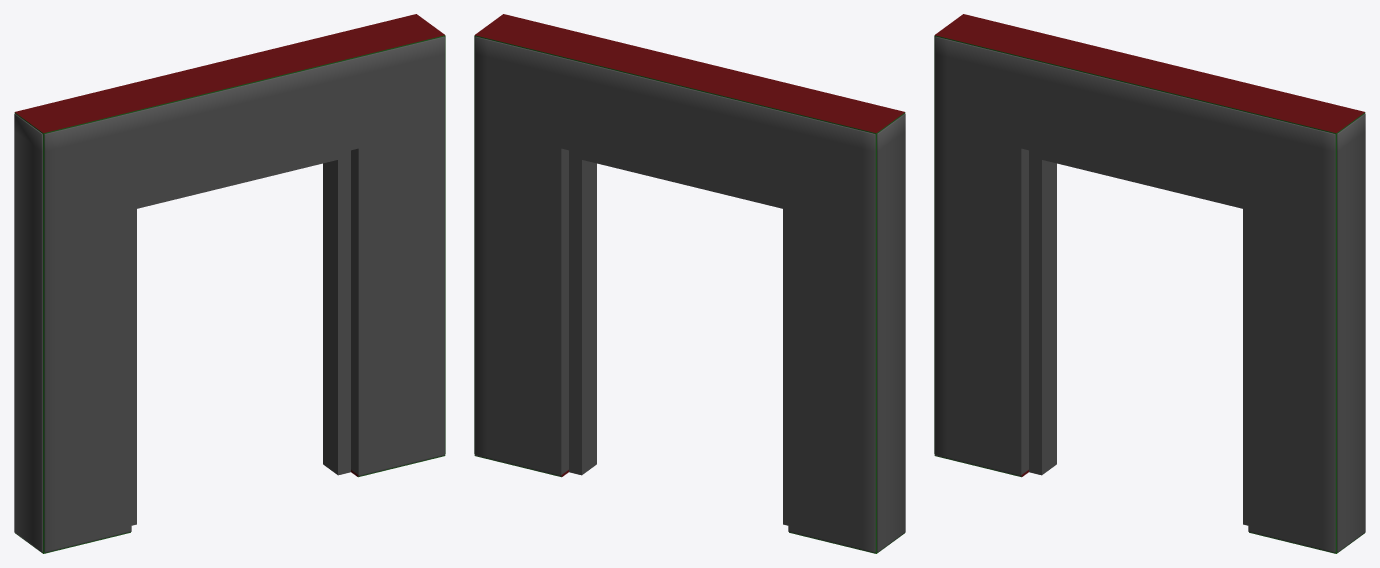
The model's file is SM_Door_8x8_01.fbx.
The picture shows the model from 3 angles, left to right: view 1: azimuth 30°, elevation 25°; view 2: azimuth 150°, elevation 25°; view 3: azimuth 330°, elevation 25°; orthographic projection.
Parts seen in each view (by area): view 1: SM_Door_8x8_01; view 2: SM_Door_8x8_01; view 3: SM_Door_8x8_01.
Part boxes in pixels (box(x1,y1,x2,y2)): SM_Door_8x8_01: box(14, 14, 445, 553); SM_Door_8x8_01: box(474, 14, 905, 553); SM_Door_8x8_01: box(934, 14, 1365, 553).
Size of the model in its own units: 804 by 800 by 104.
